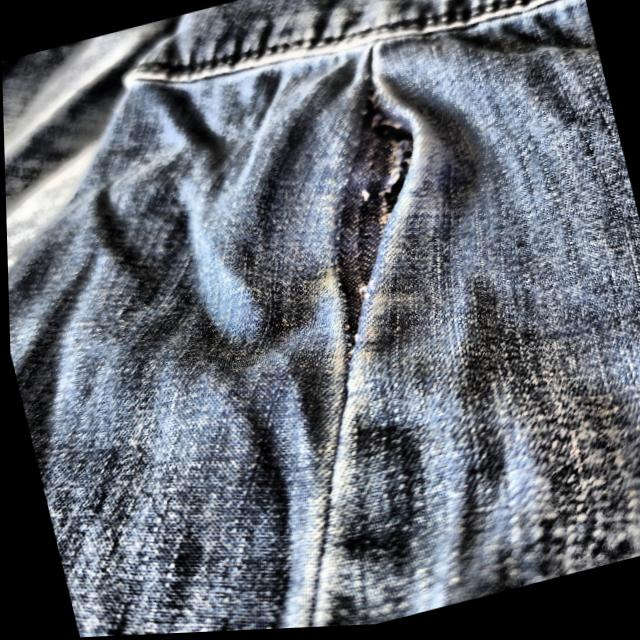seam: (273, 64, 480, 381)
